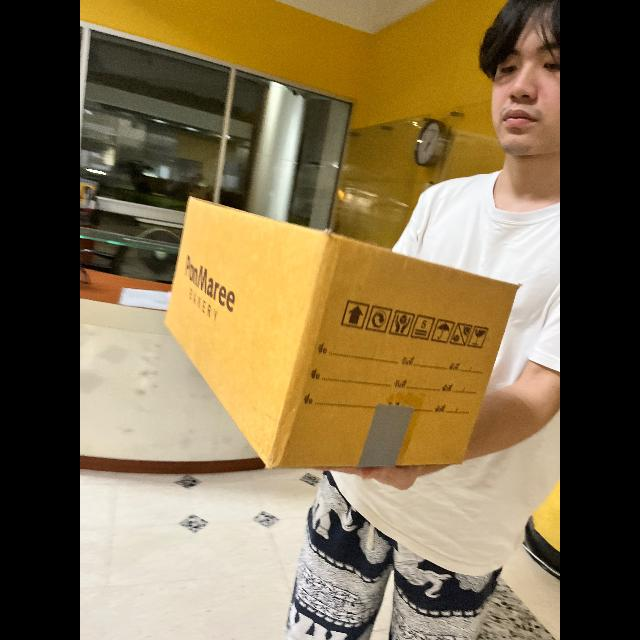cardboard_box: (158, 183, 521, 475)
